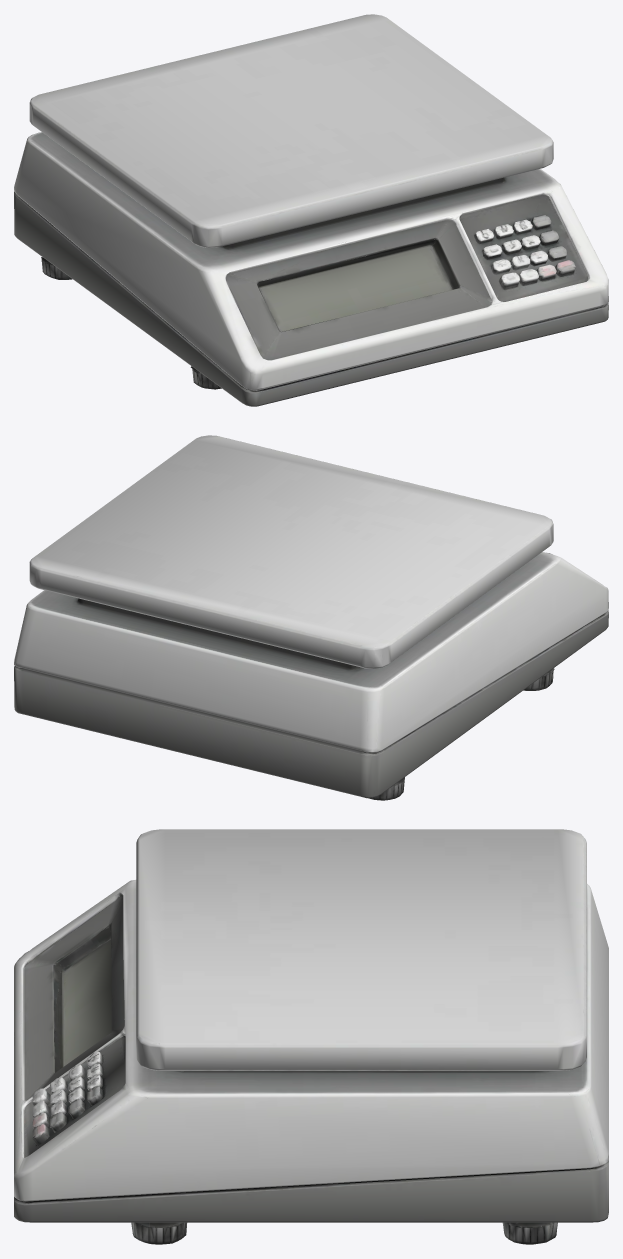
3 renders of one model, top to bottom at view 1: azimuth 30°, elevation 25°; view 2: azimuth 150°, elevation 25°; view 3: azimuth 270°, elevation 25°, orthographic. The views are drawn at different scales.
Visible parts, largest first — view 1: Digital Scale; view 2: Digital Scale; view 3: Digital Scale.
Part boxes in pixels (x1,y1,x2,y2): Digital Scale: [14, 14, 608, 406]; Digital Scale: [14, 435, 608, 800]; Digital Scale: [14, 829, 608, 1244].
Size of the model in its own units: 0.877 by 0.373 by 0.998.
1 material, 1 textured.
